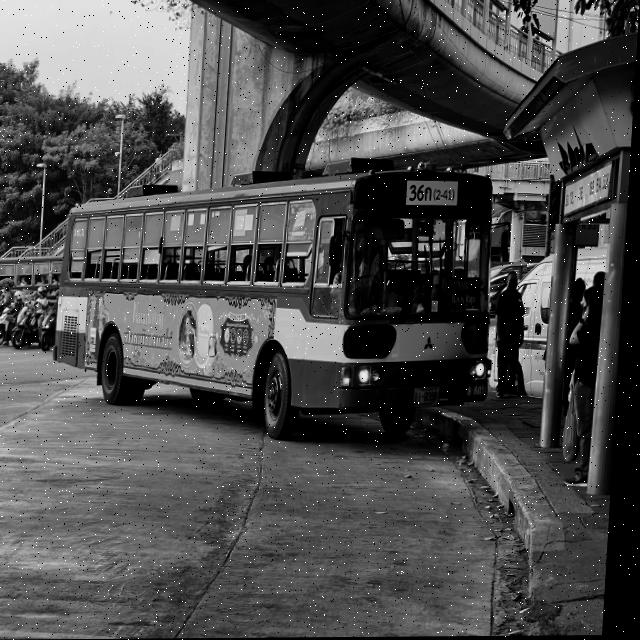BMTA-bus: (50, 167, 507, 443)
Bus-Line-Number: (409, 180, 464, 209)
Destination-Sign-Extra-Bus: (448, 275, 487, 311)
